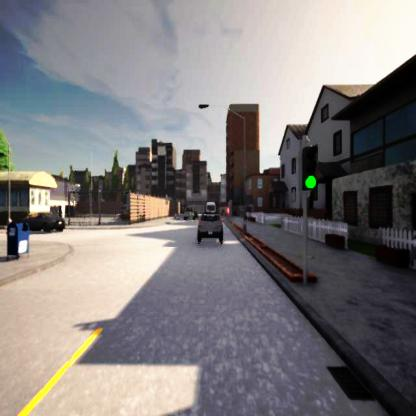vehicle: (24, 212, 64, 233), (196, 213, 223, 239)
